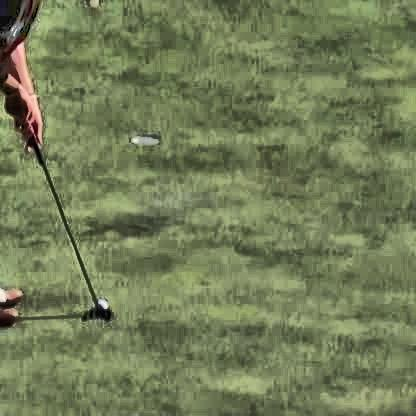golfball: (94, 296, 104, 306)
